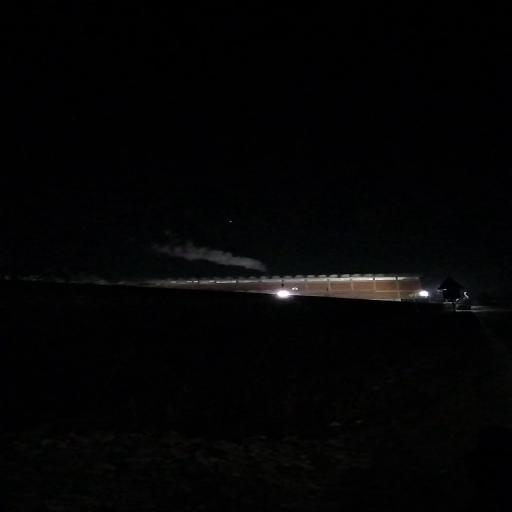leakage: (138, 234, 284, 276)
